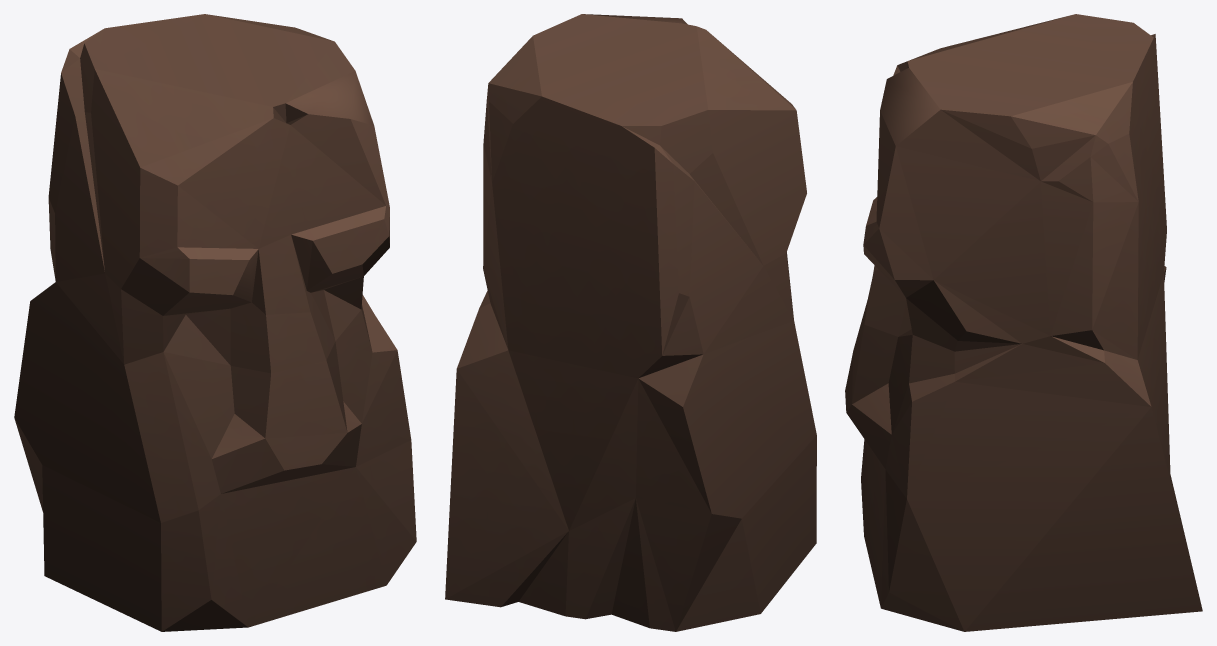
File: Rock_Totem_1B.fbx
The picture shows the model from 3 angles, left to right: view 1: azimuth 30°, elevation 25°; view 2: azimuth 150°, elevation 25°; view 3: azimuth 270°, elevation 25°; orthographic projection.
Visible parts, largest first — view 1: Rock_Totem_1B; view 2: Rock_Totem_1B; view 3: Rock_Totem_1B.
Boxes of the visible parts, <box> form: Rock_Totem_1B: <box>14,14,416,631</box>; Rock_Totem_1B: <box>445,14,816,631</box>; Rock_Totem_1B: <box>845,14,1202,631</box>.
Bounding box in the file's own units: 1.44 × 2.31 × 1.5.
